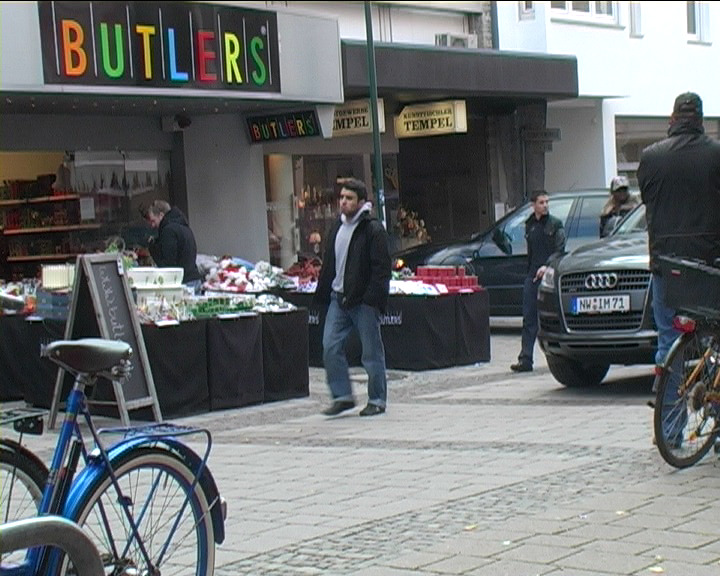undeflect: (329, 180, 386, 250)
